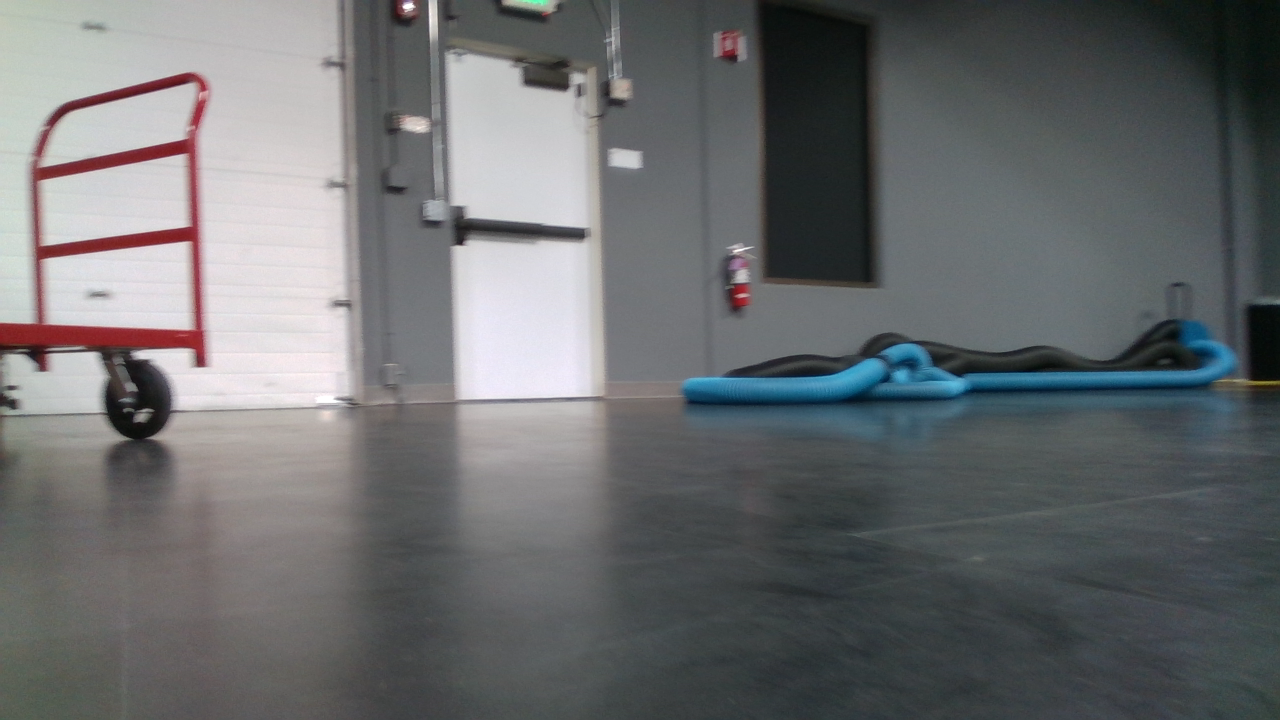Dolly: (0, 69, 217, 455)
Wheel: (104, 357, 174, 441)
